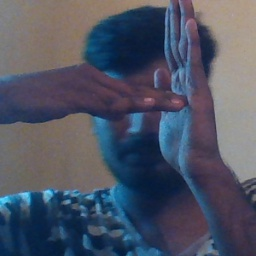Z: (106, 1, 222, 175)
